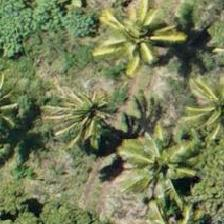coconut_tree: (38, 67, 128, 157), (113, 118, 203, 208), (95, 0, 185, 82)
